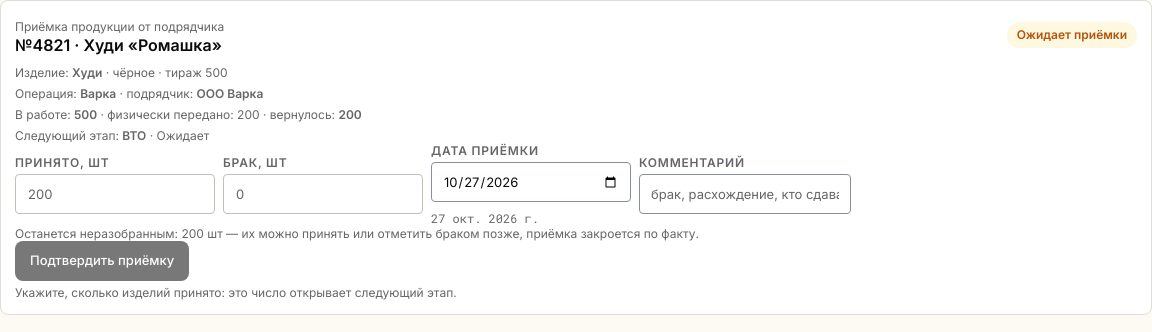
карточка приёмки подряда › неразобранный остаток называется остатком, а не браком
Type "150" into the number field named "Сколько принято".
click(115, 194); type("150")  # box [15,174,215,214]
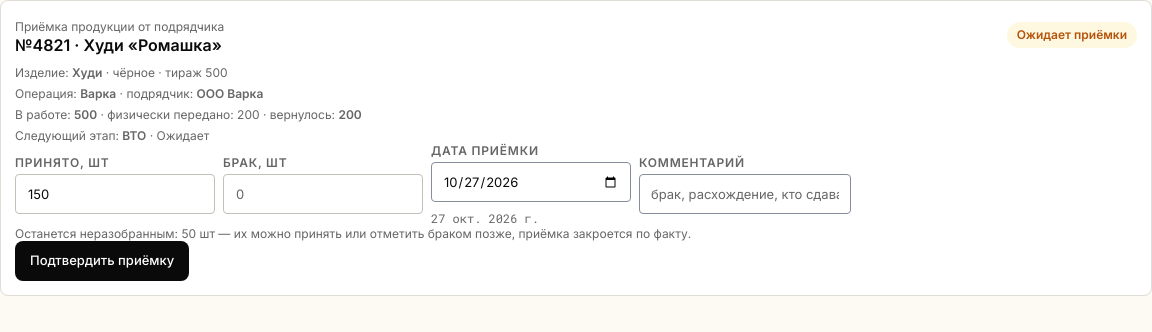
Expected: the text "Останется неразобранным: 50" is shown, [15,226,691,241]
